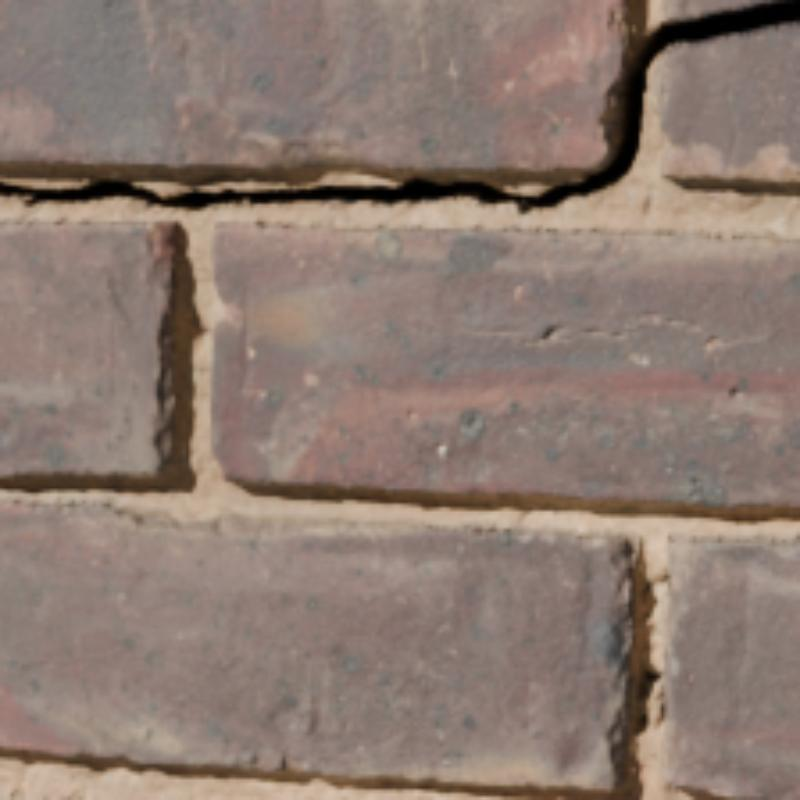crack: (0, 0, 796, 211)
